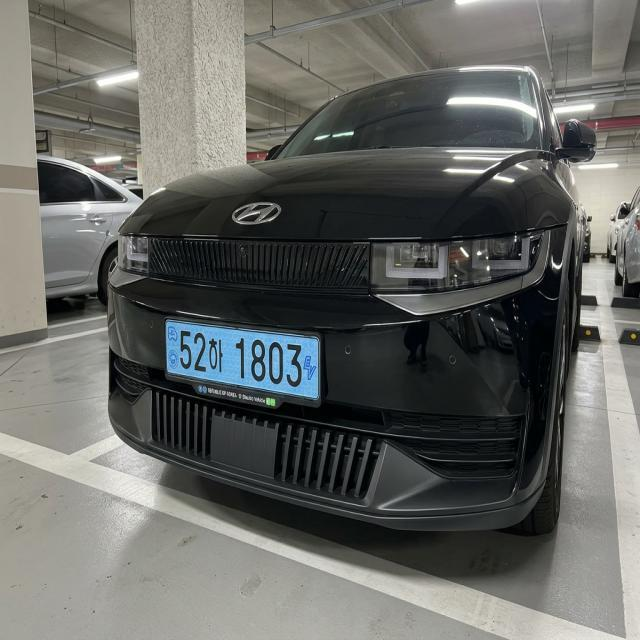car: (159, 299, 332, 423)
carev: (165, 321, 180, 379), (301, 348, 319, 392)
